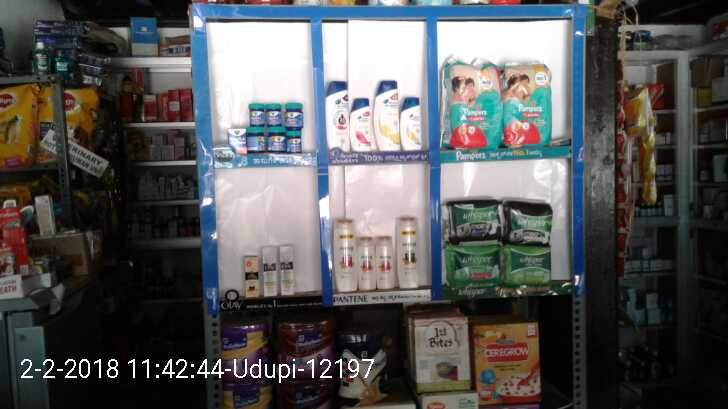beauty: (393, 216, 423, 292), (330, 212, 357, 296), (325, 74, 350, 158), (376, 79, 401, 157), (346, 95, 373, 158), (352, 231, 377, 292), (375, 231, 396, 290), (402, 94, 424, 149), (262, 245, 280, 295), (281, 246, 298, 297), (242, 250, 259, 299)
pharmacy: (439, 62, 505, 155), (499, 57, 550, 149), (452, 185, 504, 237), (448, 237, 502, 286), (510, 237, 557, 283), (504, 202, 552, 241), (243, 124, 265, 155), (288, 123, 304, 159), (280, 109, 310, 125), (263, 132, 284, 154), (262, 105, 277, 130), (245, 103, 260, 124)
